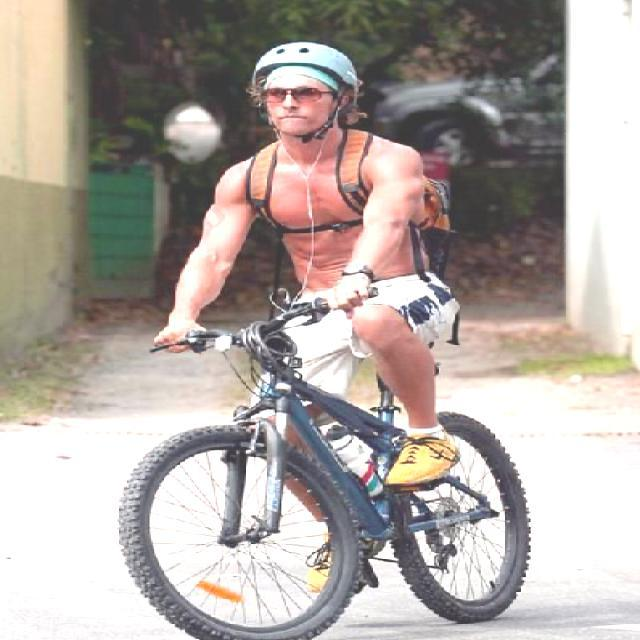Helmet: (241, 36, 360, 148)
